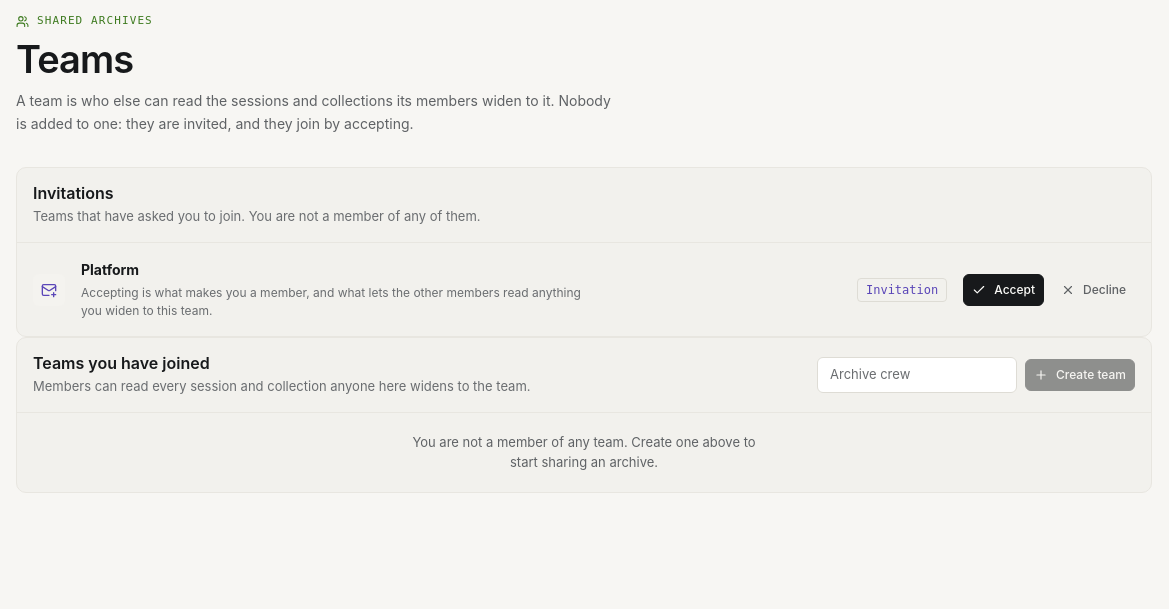
Test: team invitations › shows a refused acceptance where the reader pressed the button
Click the button "Accept": [1004, 290] box [963,274,1044,306]
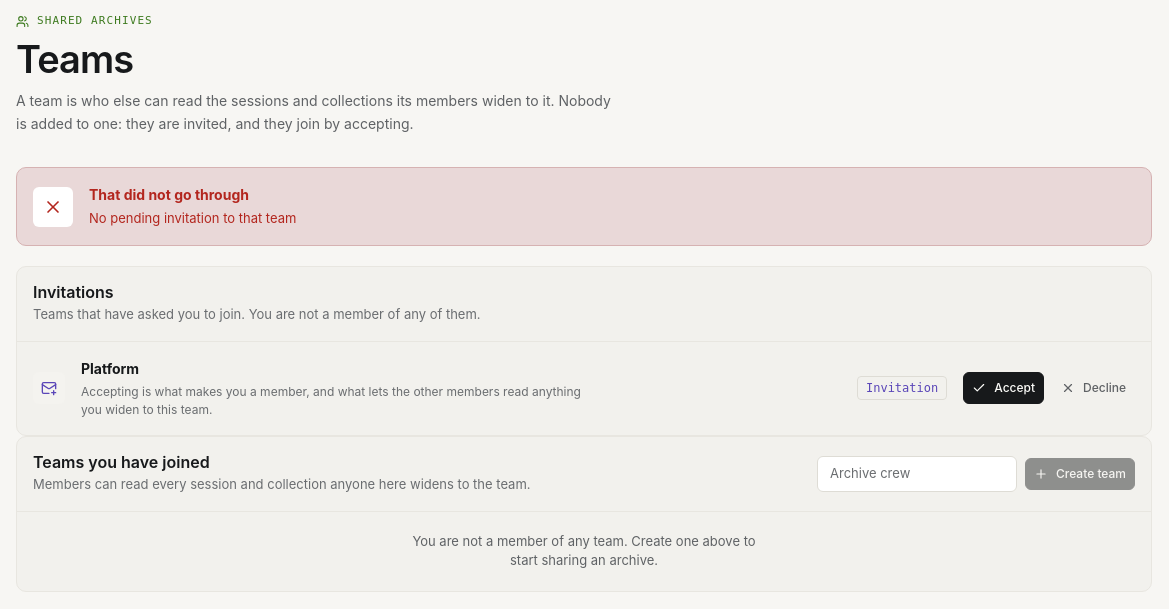
Expected: the message shows "No pending invitation to that team", [89,210,296,226]
